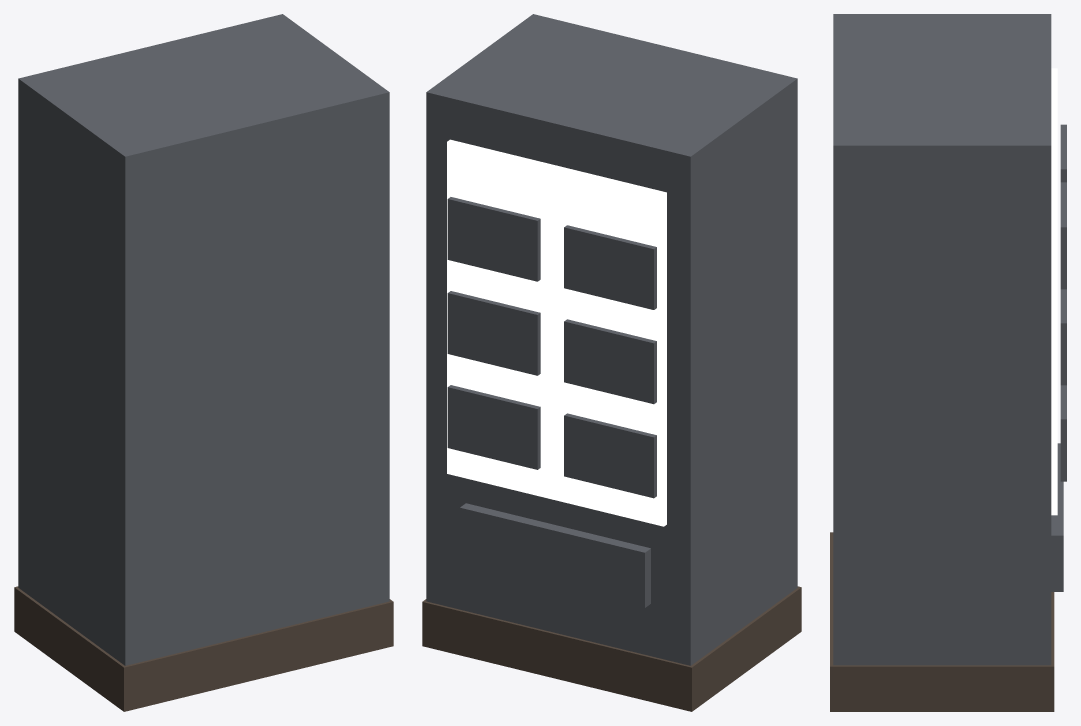
File: prop_vending.glb
3 views of the same model, side by side, from view 1: azimuth 30°, elevation 25°; view 2: azimuth 150°, elevation 25°; view 3: azimuth 270°, elevation 25° (orthographic). The views are drawn at different scales.
Parts seen in each view (by area): view 1: vending; view 2: vending; view 3: vending.
Part boxes in pixels (x1,y1,x2,y2): vending: (14, 14, 393, 711); vending: (422, 14, 801, 711); vending: (830, 14, 1066, 711).
Bounding box in the file's own units: 1.02 × 2 × 0.76.
